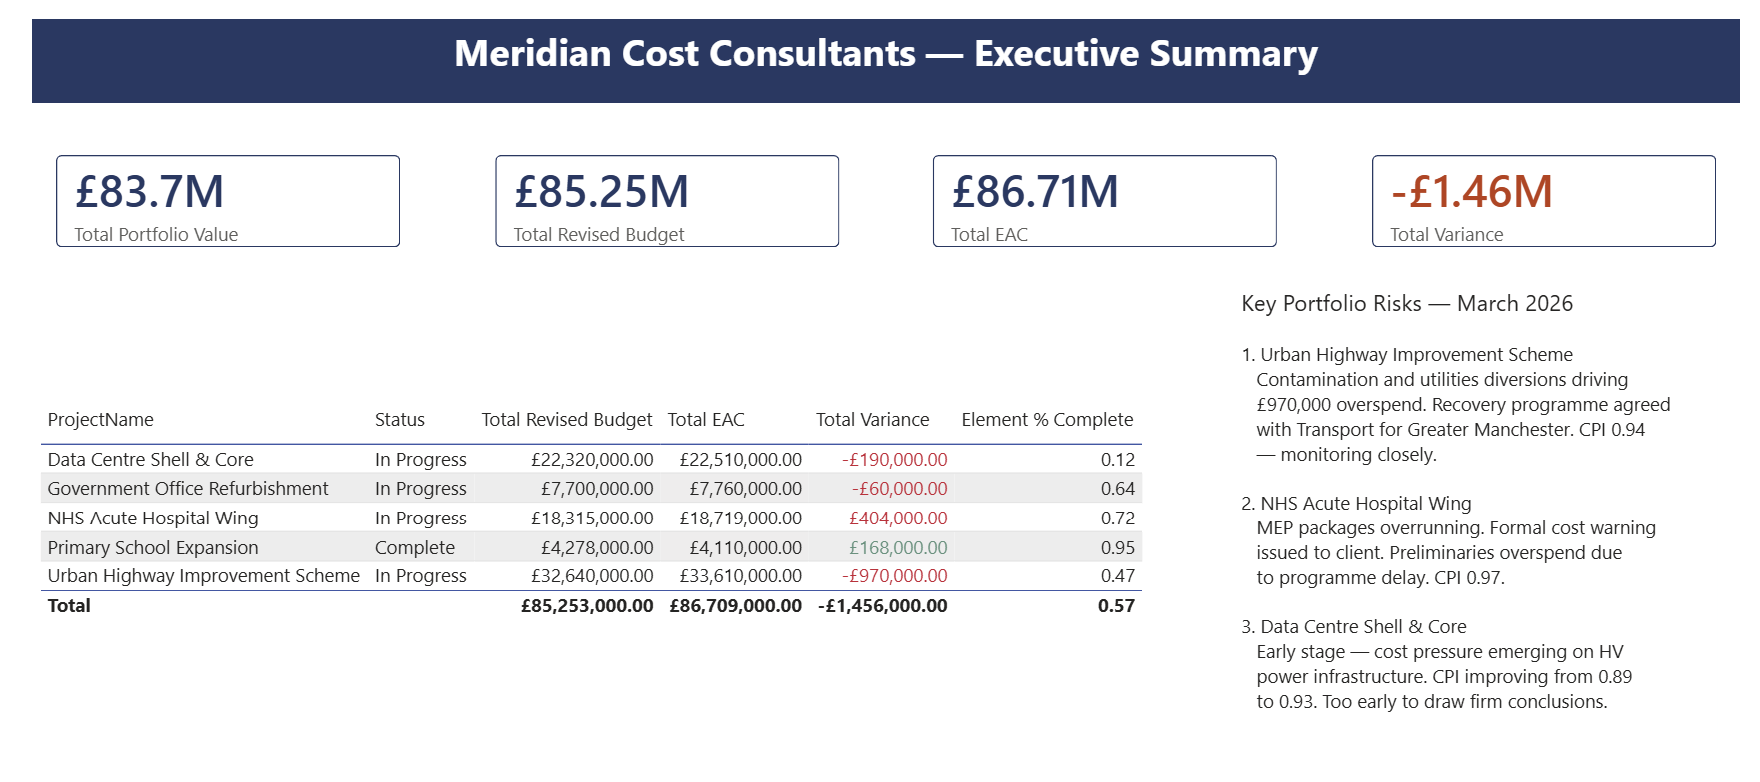

This screenshot's page, from the dashboard's own definition file:
{"tool":"powerbi","page":{"name":"Executive Summary","canvas":[1280,720],"ordinal":3},"visuals":[{"type":"textbox","box":[30,20,1220,60],"z":0},{"type":"cardVisual","fields":{"Data":["_Measure.Total Portfolio Value"]},"box":[30,100,280,100],"z":1},{"type":"cardVisual","fields":{"Data":["_Measure.Total Revised Budget"]},"box":[343.3,100,280,100],"z":2},{"type":"cardVisual","fields":{"Data":["_Measure.Total EAC"]},"box":[656.7,100,280,100],"z":3},{"type":"cardVisual","fields":{"Data":["_Measure.Total Variance"]},"box":[970,100,280,100],"z":4},{"type":"tableEx","fields":{"Values":["vw_PortfolioSummary.ProjectName","vw_PortfolioSummary.Status","_Measure.Total Revised Budget","_Measure.Total EAC","_Measure.Total Variance","_Measure.Element % Complete"]},"box":[29.7,289.8,814.6,166.3],"z":5},{"type":"textbox","box":[889.9,207.1,344.6,306.5],"z":6}]}

Visuals, with their boxes on the page's 1280x720 design canvas (x1, y1, x2, y2). These are canvas units, not pixel positions in the 1760x782 screenshot, which may show the page scaled, cropped or inside an application window:
textbox: bbox=(30, 20, 1250, 80)
cardVisual - _Measure.Total Portfolio Value: bbox=(30, 100, 310, 200)
cardVisual - _Measure.Total Revised Budget: bbox=(343, 100, 623, 200)
cardVisual - _Measure.Total EAC: bbox=(657, 100, 937, 200)
cardVisual - _Measure.Total Variance: bbox=(970, 100, 1250, 200)
tableEx - vw_PortfolioSummary.ProjectName x vw_PortfolioSummary.Status: bbox=(30, 290, 844, 456)
textbox: bbox=(890, 207, 1234, 514)
